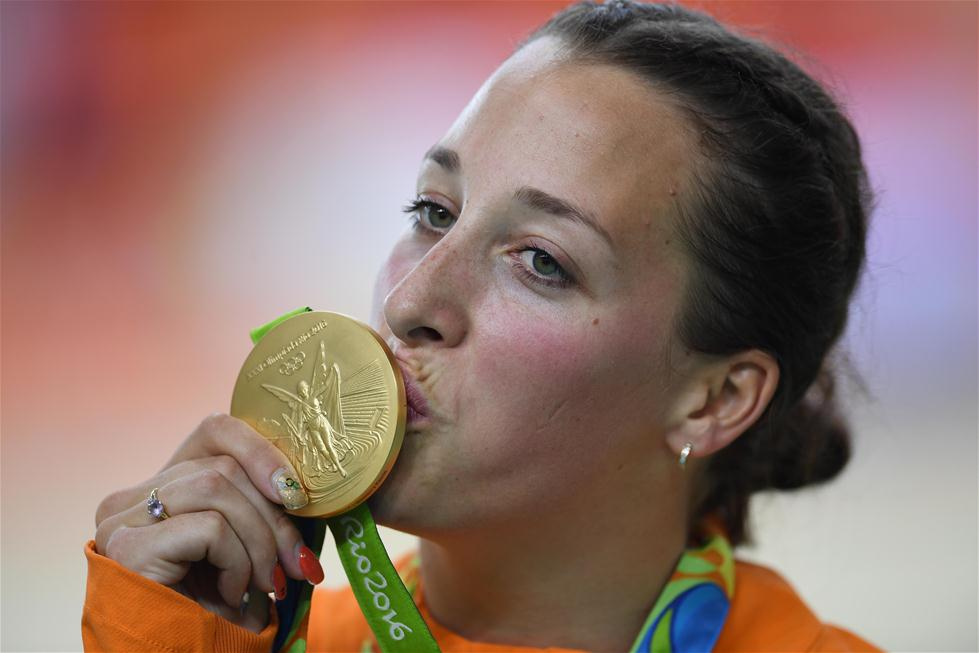face: (357, 67, 659, 534)
